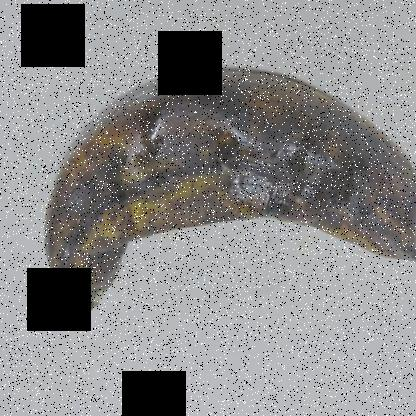rotten: (37, 60, 415, 334)
